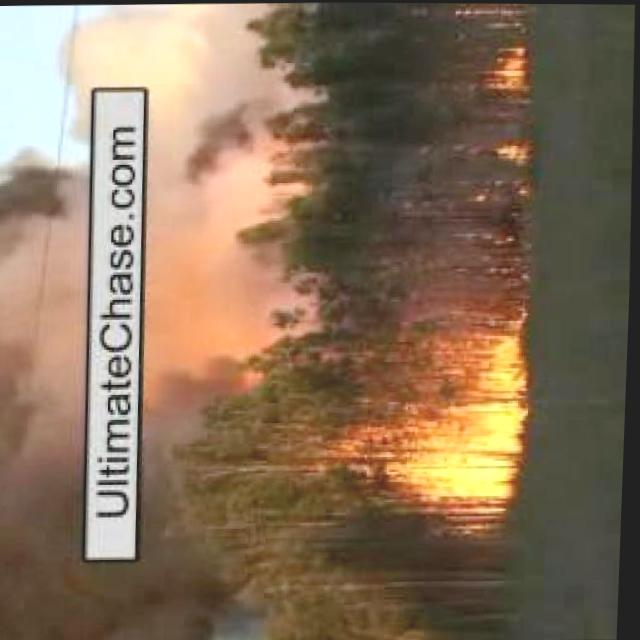Fire: (377, 315, 531, 516), (483, 41, 532, 95), (495, 135, 527, 171)
Smoke: (134, 1, 340, 640), (0, 142, 92, 640)
